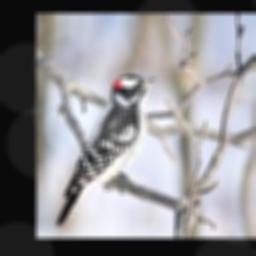Woodpecker: (55, 75, 159, 228)
